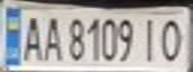0: (100, 15, 118, 62)
1: (81, 14, 103, 62)
8: (63, 12, 87, 62)
9: (115, 15, 139, 63)
A: (18, 11, 45, 63), (39, 11, 63, 63)
I: (136, 15, 163, 63)
O: (157, 15, 190, 63)
